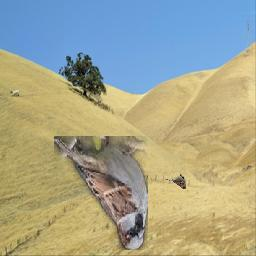Sparrow: (54, 136, 148, 250), (166, 173, 187, 189)
